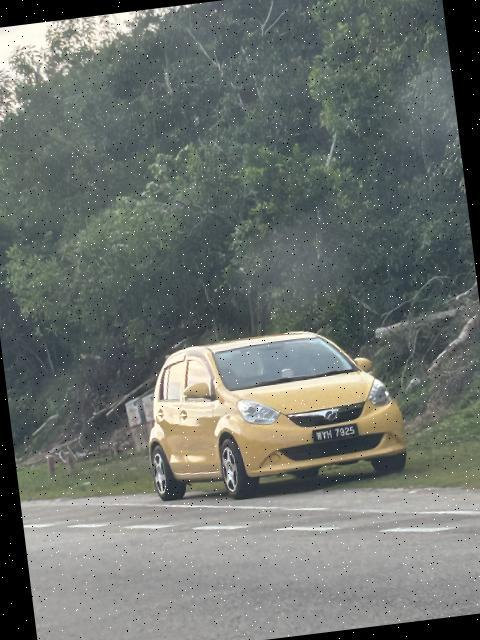License_Plate: (311, 421, 363, 447)
WYH7925: (311, 421, 363, 447)
car: (143, 313, 412, 510)
